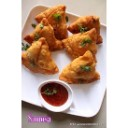samosa: (21, 36, 60, 75), (60, 49, 101, 84), (62, 27, 98, 62), (23, 18, 63, 49), (35, 2, 69, 36), (69, 14, 104, 45)
